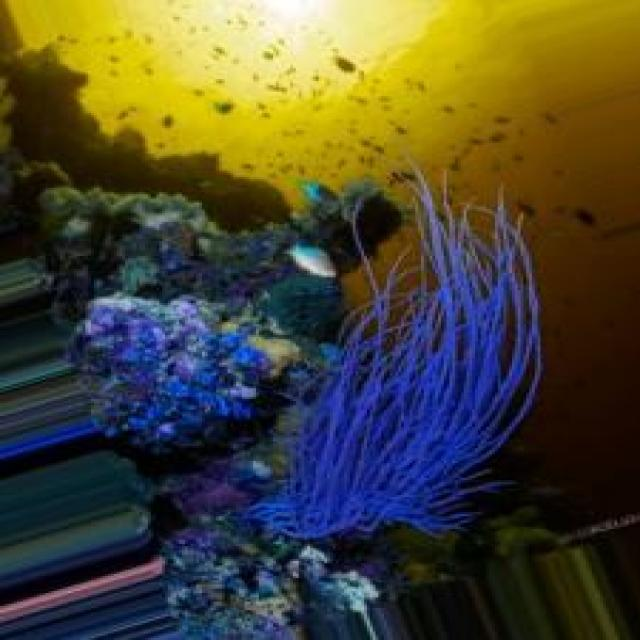Healthy: (47, 174, 547, 640), (266, 184, 544, 543), (69, 298, 280, 470), (1, 5, 29, 161)
